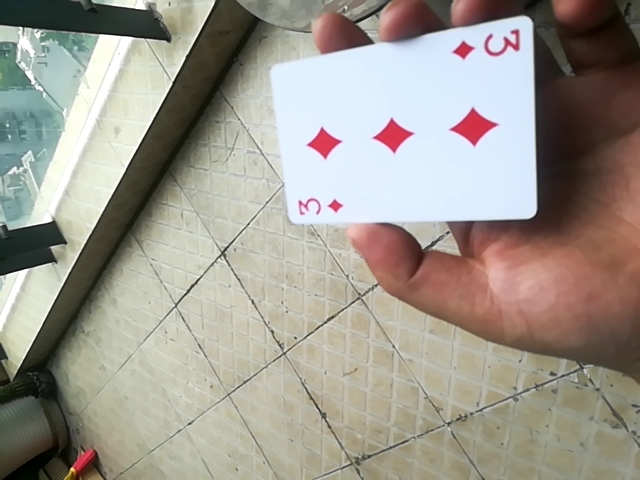fk 3: (265, 14, 537, 229)
